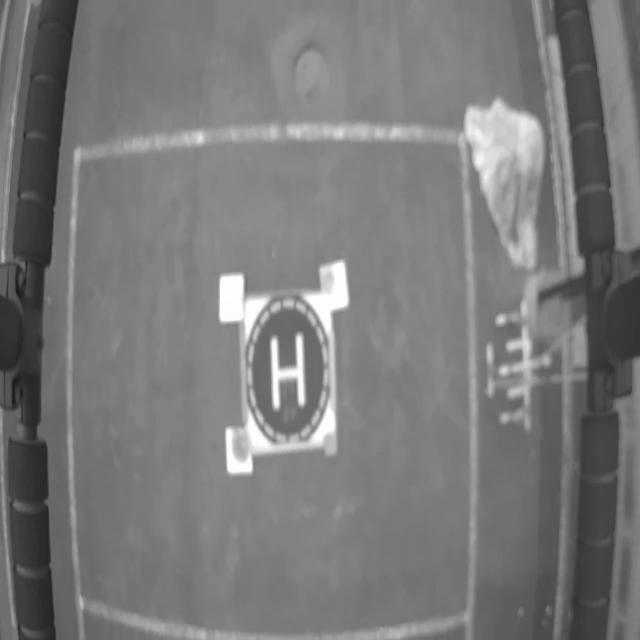Helipad: (270, 333, 307, 412)
